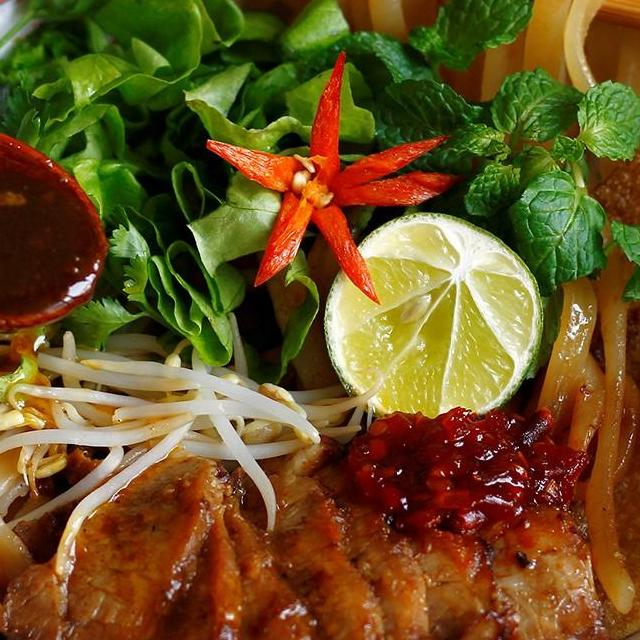banh da: (570, 299, 640, 640), (576, 49, 640, 300)
mi: (168, 0, 640, 177), (533, 233, 640, 622), (0, 279, 47, 640)
mi quang: (0, 0, 640, 640)
thit heo: (0, 447, 234, 640), (434, 401, 609, 640), (228, 424, 394, 640), (295, 439, 449, 640), (72, 487, 268, 640), (382, 452, 525, 640), (202, 488, 354, 640)
